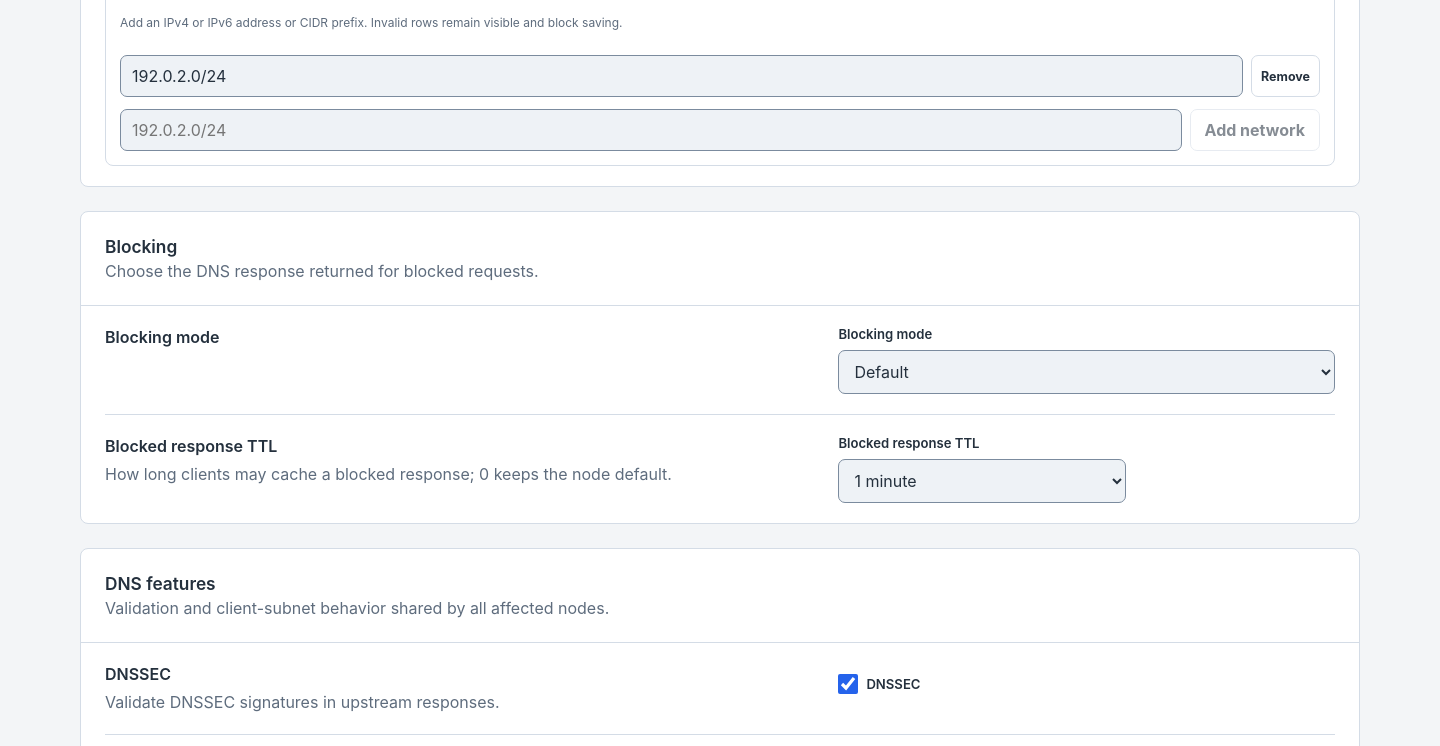
Scenario: DNS Settings › shows custom block and ECS fields only when required and validates addresses inline
The image size is (1440, 746).
(page scrolled)
Check: the heading "Blocking" is shown, box [105,236,177,257]
Check: the field labelled "Custom blocking IPv4" is not shown
Select "Custom IP" in the dropdown labelled "Blocking mode": (1087, 372) [838,350,1335,394]
(page scrolled)
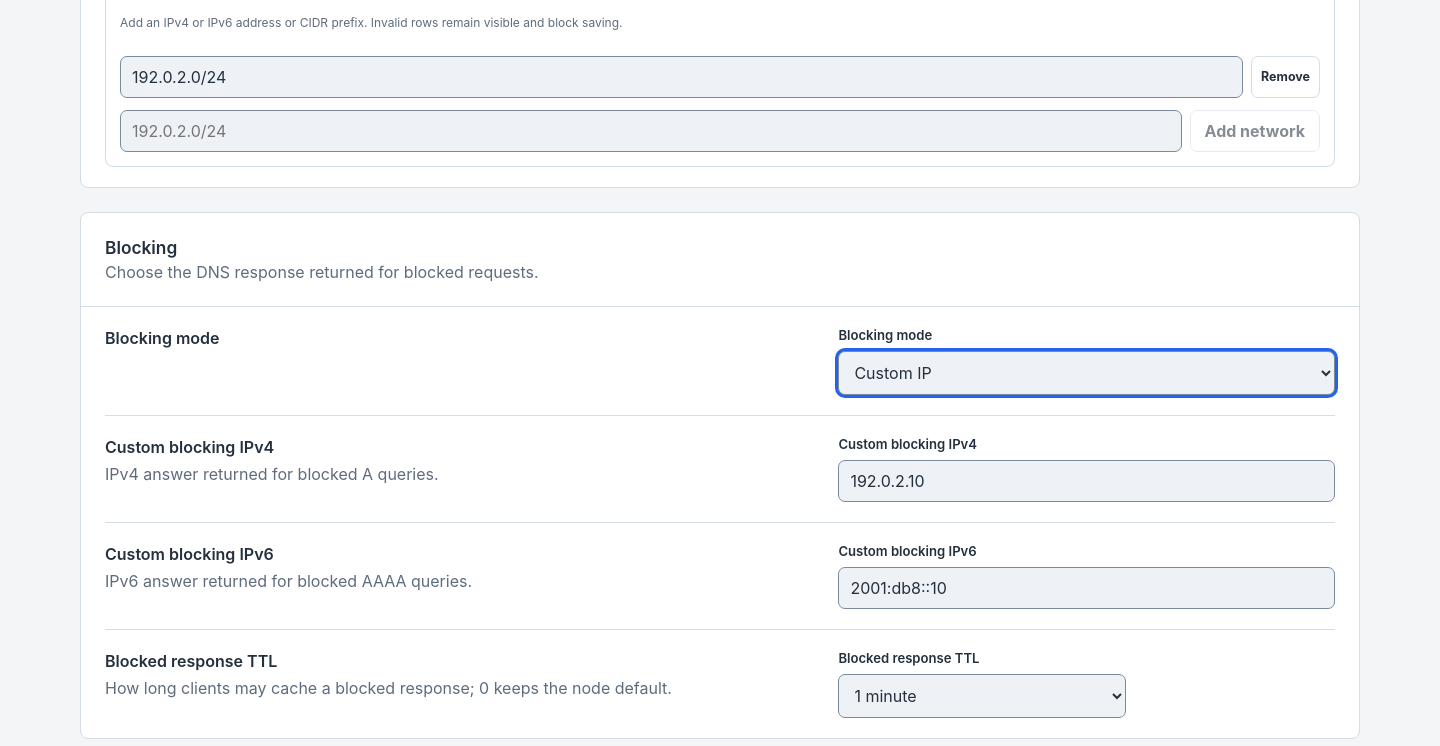
Check: the field labelled "Custom blocking IPv4" holds "192.0.2.10"
Replace the text in the field labelled "Custom blocking IPv4" with "2001:db8::1": (1087, 481) [838,460,1335,502]
(page scrolled)
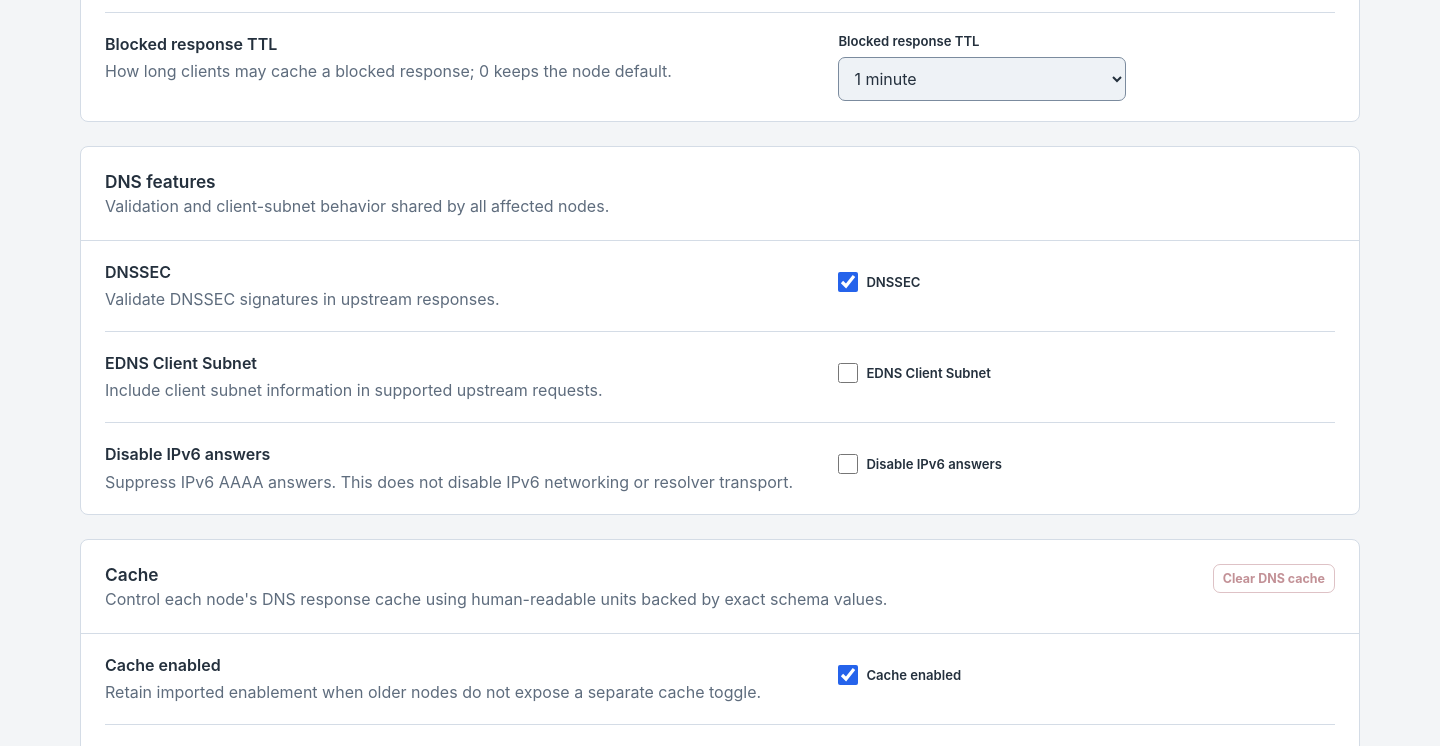
Check: the field labelled "Use a custom ECS address" is not shown
Click the checkbox labelled "EDNS Client Subnet": (848, 373) [838,363,858,383]
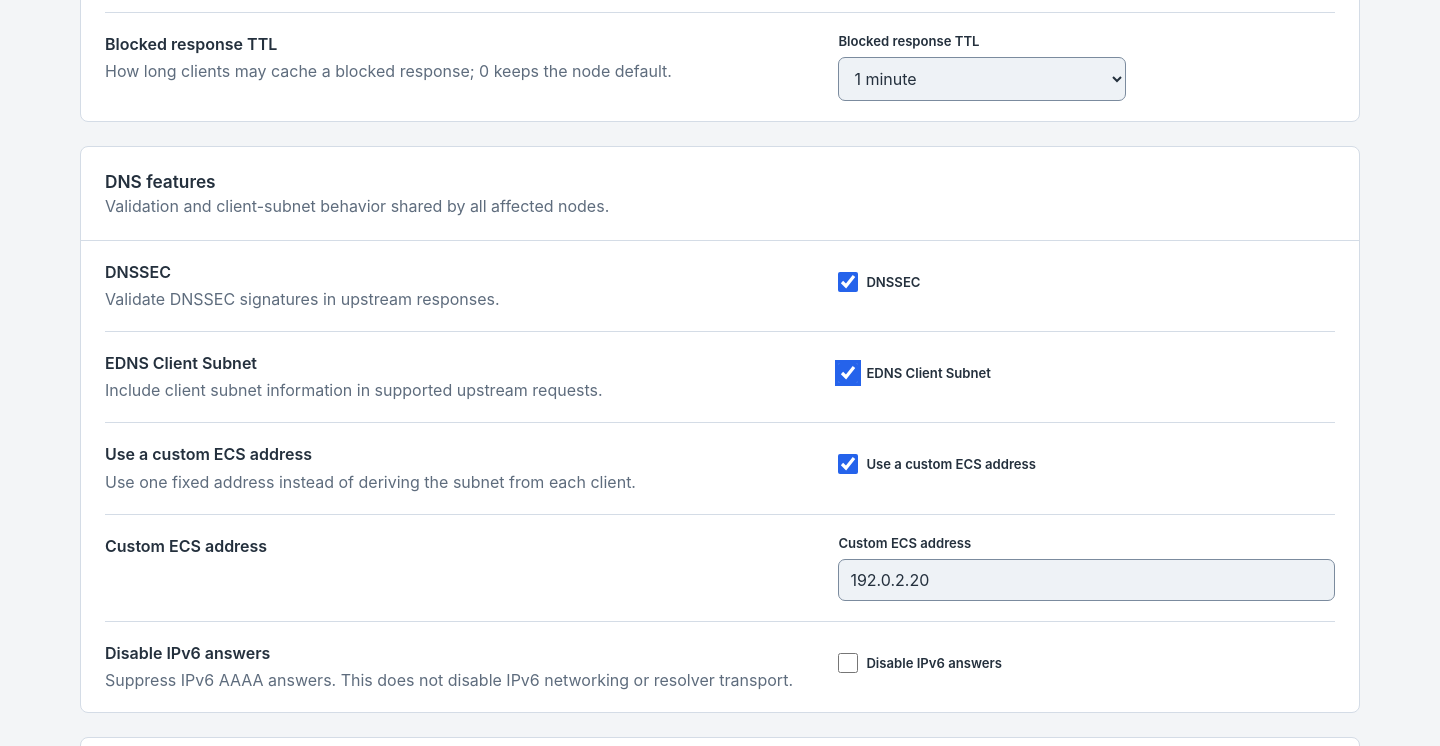
Check: the checkbox labelled "Use a custom ECS address" is shown
Click the checkbox labelled "Use a custom ECS address": (848, 464) [838,454,858,474]
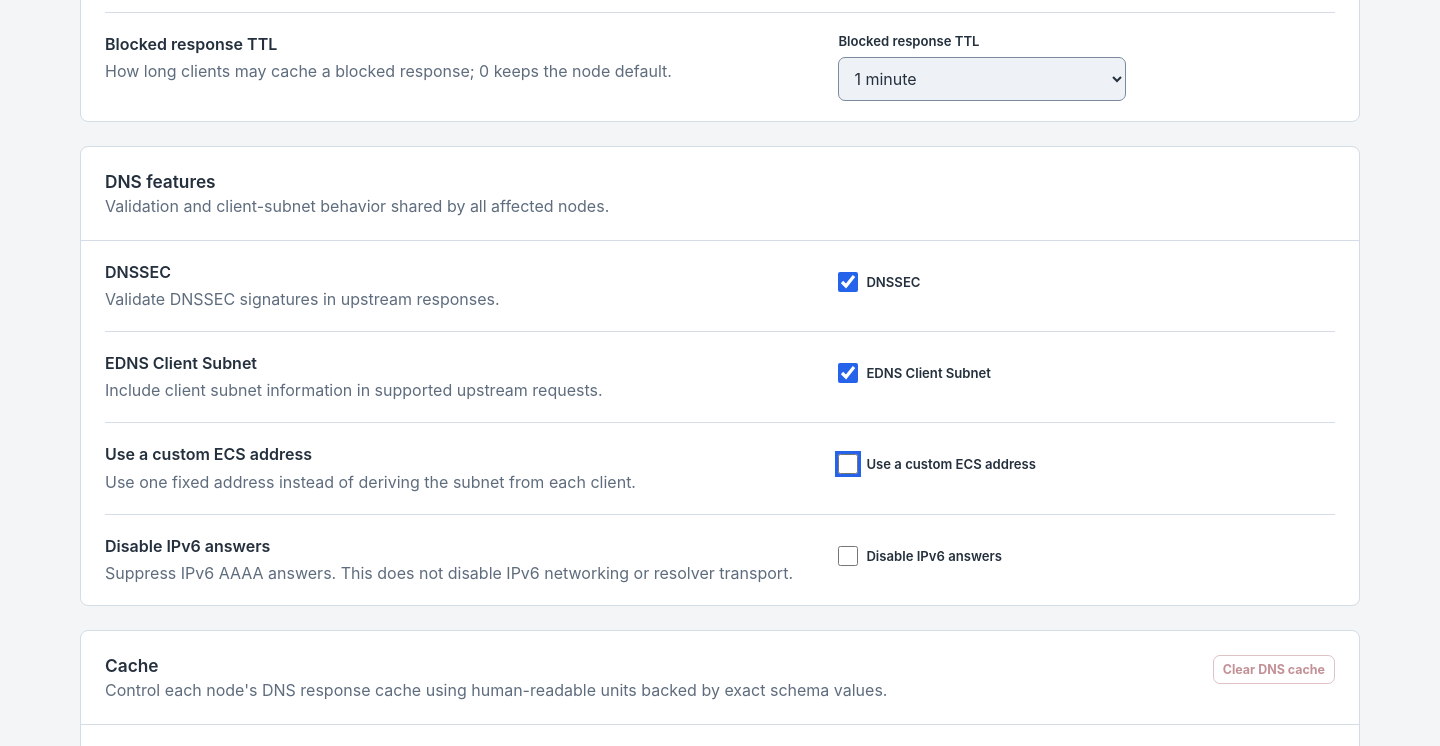
Click the checkbox labelled "Use a custom ECS address": (848, 464) [838,454,858,474]
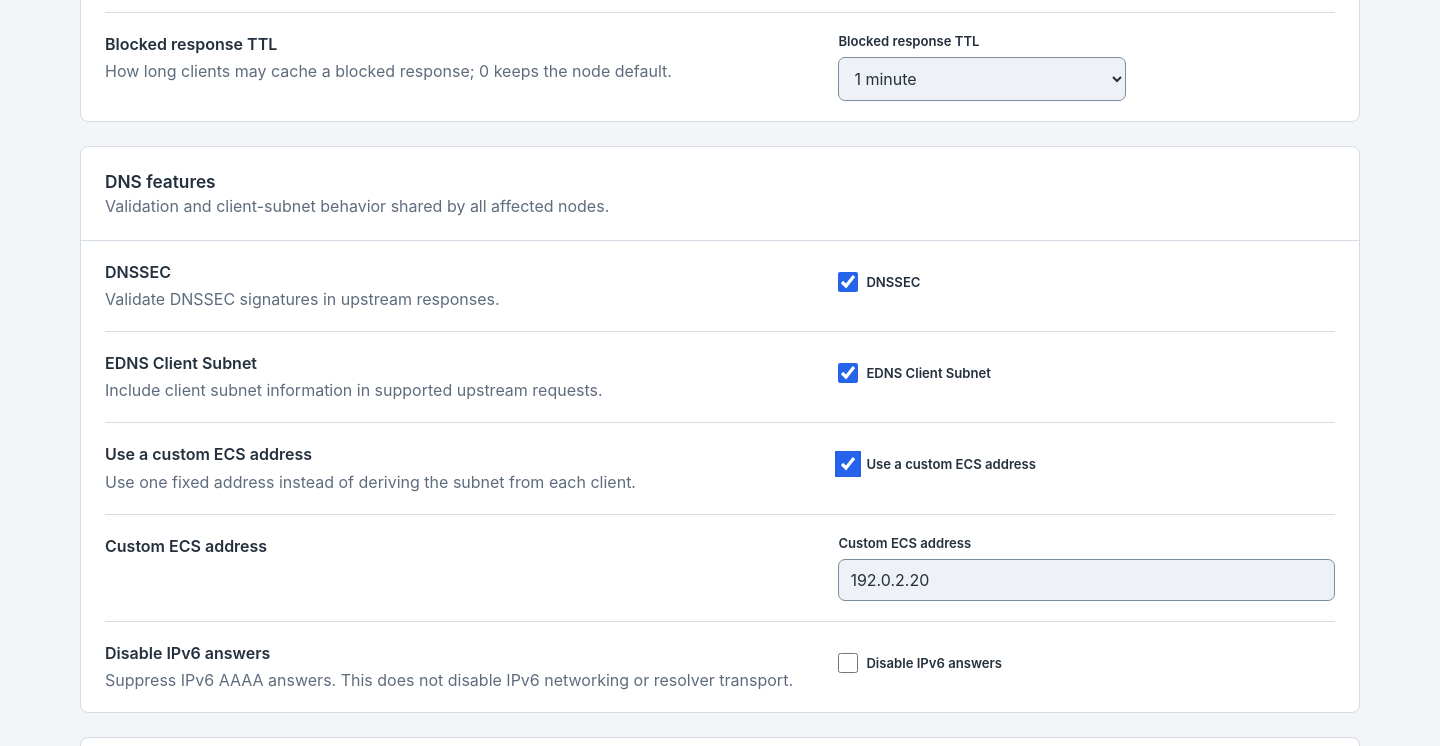
Check: the field labelled "Custom ECS address" holds "192.0.2.20", box [838,559,1335,601]
